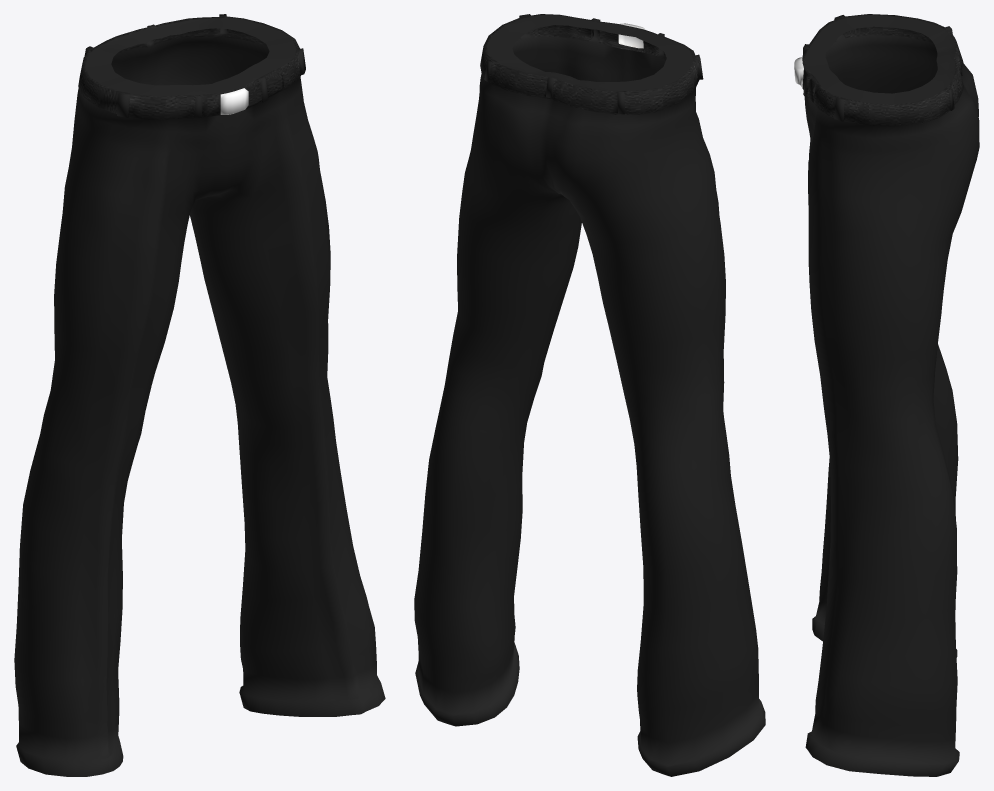
The model's file is elvs-male-trouser.glb.
The picture shows the model from 3 angles, left to right: view 1: azimuth 30°, elevation 25°; view 2: azimuth 150°, elevation 25°; view 3: azimuth 270°, elevation 25°; orthographic projection. The views are drawn at different scales.
Visible parts, largest first — view 1: Human.elvs_male_trouser; view 2: Human.elvs_male_trouser; view 3: Human.elvs_male_trouser.
Boxes of the visible parts, x1,y1,x2,y2 form: Human.elvs_male_trouser: [14, 14, 385, 776]; Human.elvs_male_trouser: [414, 14, 765, 776]; Human.elvs_male_trouser: [794, 14, 979, 776].
Size of the model in its own units: 0.5639 by 1.1 by 0.2811.
Materials: 1 (1 with a texture image).
